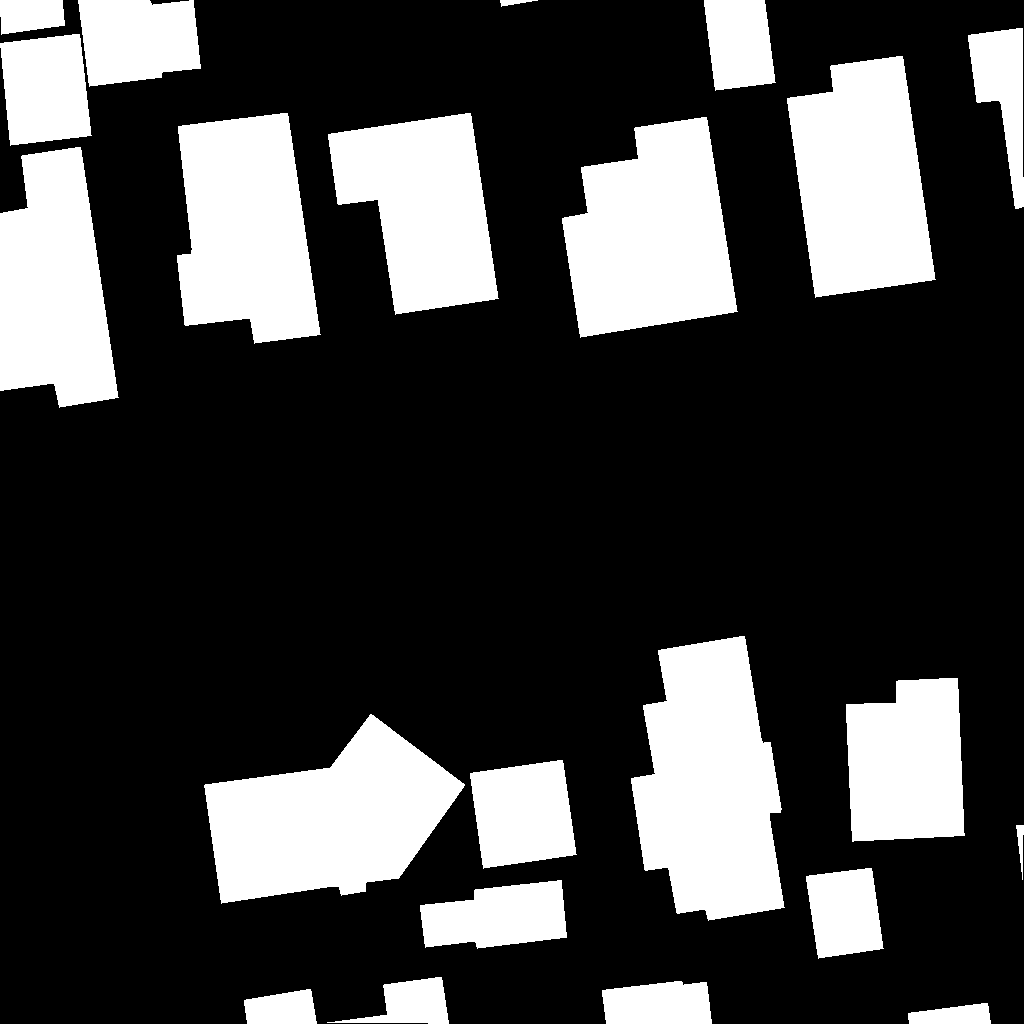building: (204, 714, 466, 904), (631, 636, 785, 921), (562, 117, 738, 338), (787, 56, 936, 298), (328, 113, 499, 315), (177, 113, 321, 344), (0, 147, 119, 408), (846, 678, 965, 842), (470, 760, 577, 869), (78, 0, 202, 87), (0, 34, 92, 146), (420, 880, 568, 949), (968, 28, 1024, 210), (244, 977, 450, 1024), (806, 868, 884, 959), (704, 0, 776, 91), (602, 981, 713, 1024), (0, 0, 66, 35), (908, 1003, 992, 1024), (1016, 825, 1024, 885), (500, 0, 541, 7)
